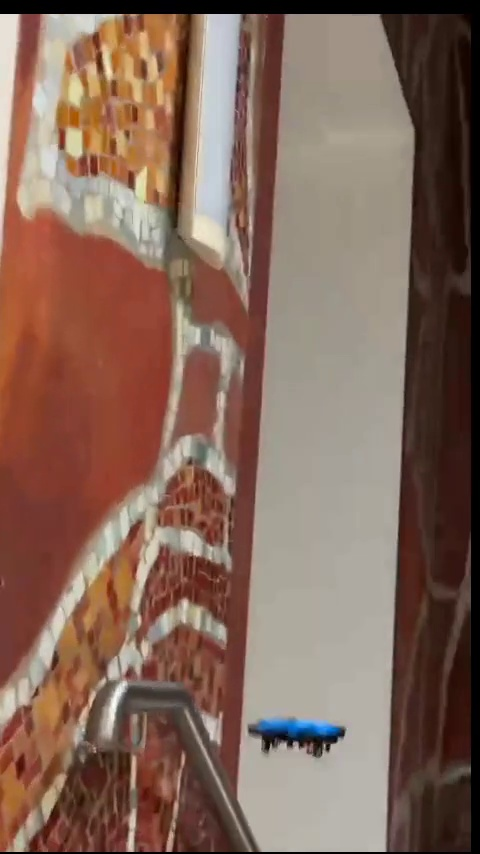drone: (247, 717, 345, 756)
